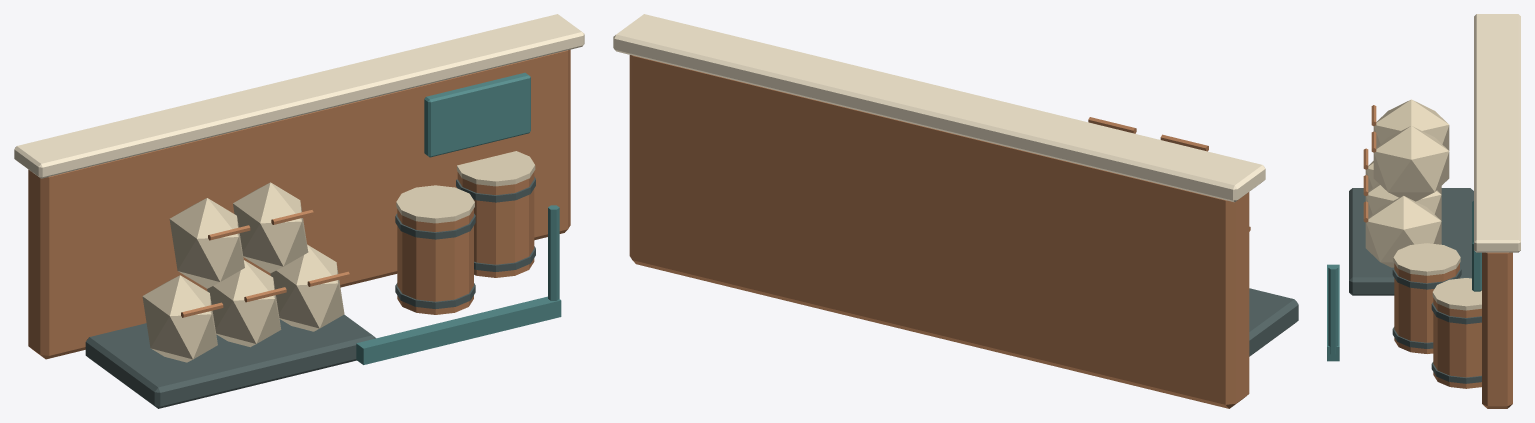
Rendered from hsc3_low_loading_yard_7m.glb.
The picture shows the model from 3 angles, left to right: view 1: azimuth 30°, elevation 25°; view 2: azimuth 150°, elevation 25°; view 3: azimuth 270°, elevation 25°; orthographic projection. The views are drawn at different scales.
Visible parts, largest first — view 1: hsc3_low_loading_yard_7m__hsc3-roasted-copper, hsc3_low_loading_yard_7m__hsc3-cream-enamel, hsc3_low_loading_yard_7m__hsc3-pale-trim, hsc3_low_loading_yard_7m__hsc3-charcoal-metal, hsc3_low_loading_yard_7m__hsc3-deep-teal; view 2: hsc3_low_loading_yard_7m__hsc3-roasted-copper, hsc3_low_loading_yard_7m__hsc3-pale-trim, hsc3_low_loading_yard_7m__hsc3-charcoal-metal; view 3: hsc3_low_loading_yard_7m__hsc3-cream-enamel, hsc3_low_loading_yard_7m__hsc3-roasted-copper, hsc3_low_loading_yard_7m__hsc3-pale-trim, hsc3_low_loading_yard_7m__hsc3-charcoal-metal, hsc3_low_loading_yard_7m__hsc3-deep-teal.
Part boxes in pixels (<box>): hsc3_low_loading_yard_7m__hsc3-roasted-copper: <box>28,49,570,359</box>; hsc3_low_loading_yard_7m__hsc3-cream-enamel: <box>142,151,535,362</box>; hsc3_low_loading_yard_7m__hsc3-pale-trim: <box>14,14,584,178</box>; hsc3_low_loading_yard_7m__hsc3-charcoal-metal: <box>85,176,535,408</box>; hsc3_low_loading_yard_7m__hsc3-deep-teal: <box>356,72,561,364</box>; hsc3_low_loading_yard_7m__hsc3-roasted-copper: <box>629,55,1250,408</box>; hsc3_low_loading_yard_7m__hsc3-pale-trim: <box>613,14,1265,202</box>; hsc3_low_loading_yard_7m__hsc3-charcoal-metal: <box>1249,288,1298,356</box>; hsc3_low_loading_yard_7m__hsc3-cream-enamel: <box>1365,99,1481,310</box>; hsc3_low_loading_yard_7m__hsc3-roasted-copper: <box>1363,105,1512,408</box>; hsc3_low_loading_yard_7m__hsc3-pale-trim: <box>1474,14,1520,252</box>; hsc3_low_loading_yard_7m__hsc3-charcoal-metal: <box>1349,188,1481,383</box>; hsc3_low_loading_yard_7m__hsc3-deep-teal: <box>1327,201,1481,361</box>.
Bounding box in the file's own units: 6.9 × 2.45 × 2.48.
